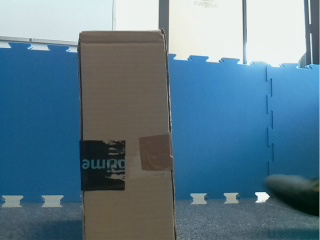caja: (75, 29, 178, 240)
